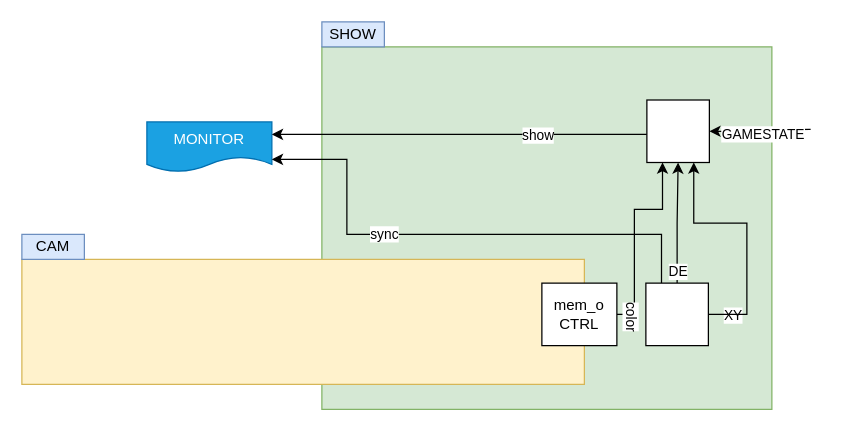
Image size: 843x431. Some labels were removed from this diagram. The shapes that lost their labels are listed below. From the top down, each one's centre as x and y in pixels, then its label:
the point at 677,130: TEXT SHOW
the point at 676,314: VGA CTRL
